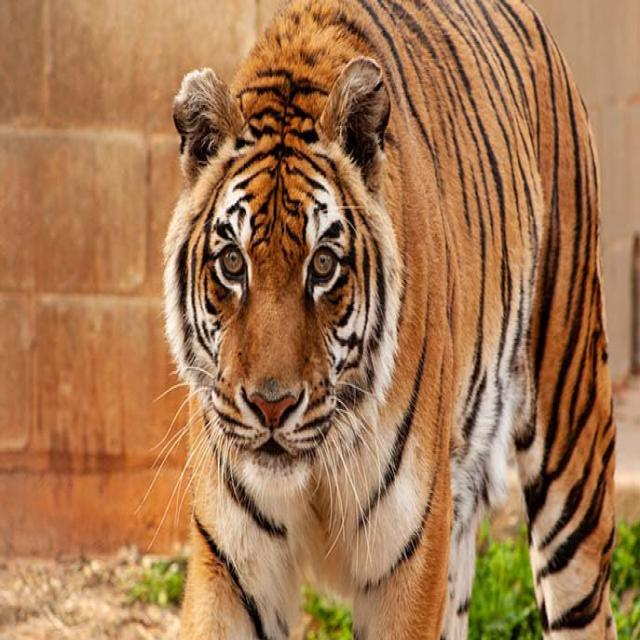Tiger: (135, 0, 623, 639)
